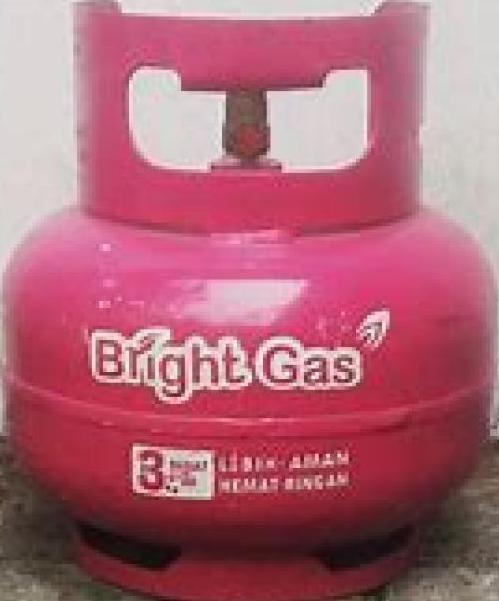cylinder: (1, 1, 499, 601)
